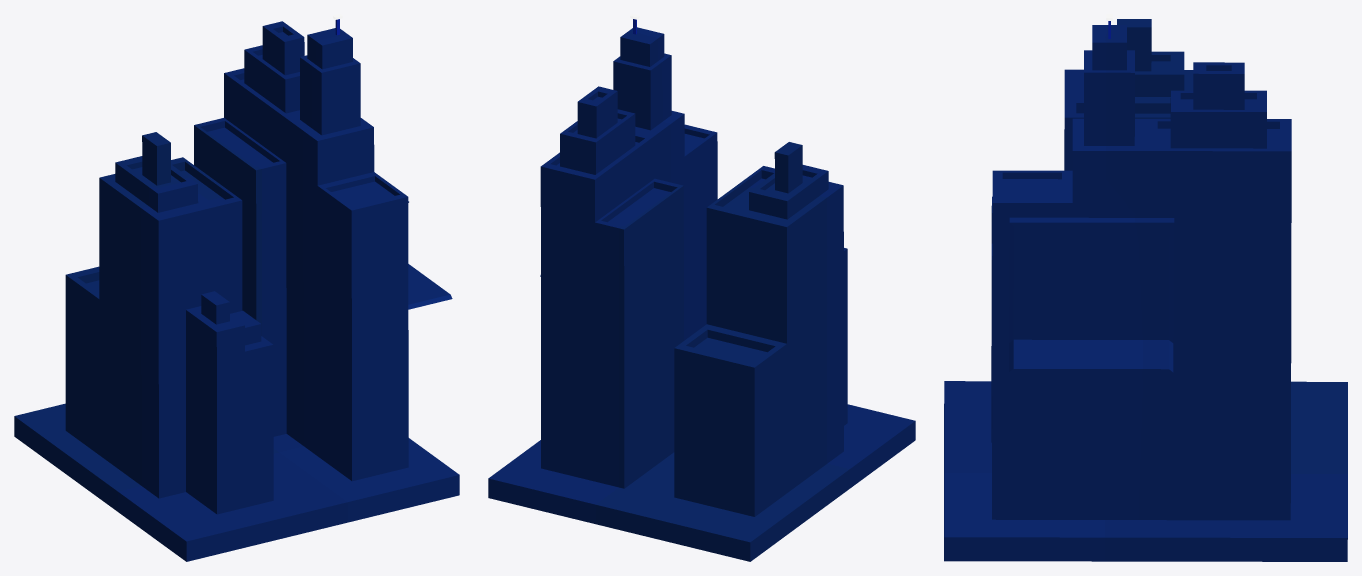
File: building.glb
3 renders of one model, left to right at view 1: azimuth 30°, elevation 25°; view 2: azimuth 150°, elevation 25°; view 3: azimuth 270°, elevation 25°, orthographic. The views are drawn at different scales.
Visible parts, largest first — view 1: Mesh; view 2: Mesh; view 3: Mesh.
Boxes of the visible parts, bbox=[...] form: Mesh: bbox=[14, 14, 459, 561]; Mesh: bbox=[488, 14, 915, 561]; Mesh: bbox=[944, 14, 1347, 561].
Size of the model in its own units: 3.17 by 4.55 by 3.22.
Materials: 2 (1 with a texture image).
